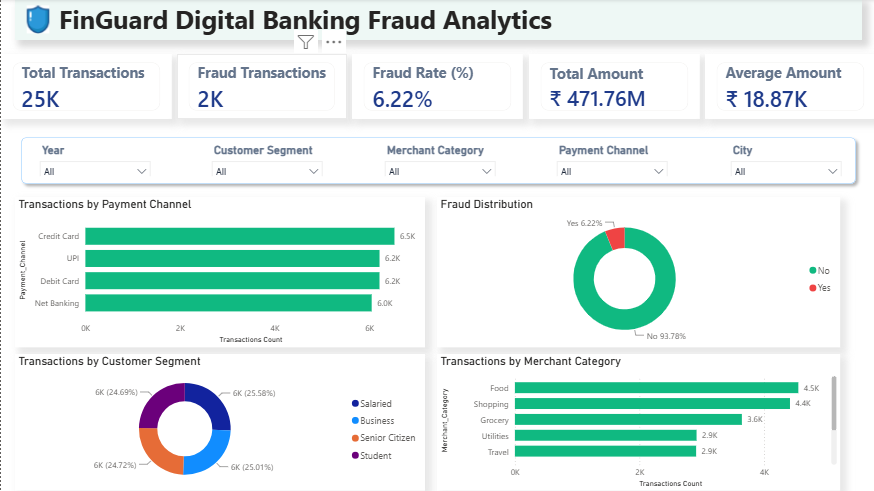

The page's visual inventory and layout, read from the dashboard file:
{"tool":"powerbi","page":{"name":"Executive Dashboard","canvas":[1280,720],"ordinal":0},"visuals":[{"type":"shape","box":[20.5,0,1239.5,60],"z":0},{"type":"actionButton","box":[29.3,4.4,49.8,51.2],"z":1000},{"type":"textbox","box":[84.9,4,1153.2,57.1],"z":2000},{"type":"cardVisual","fields":{"Data":["transactions.Total Transactions"]},"box":[0,80,250.2,95.1],"z":3000},{"type":"cardVisual","fields":{"Data":["transactions.Fraud Transactions"]},"box":[257.8,80,248.8,95.1],"z":4000},{"type":"cardVisual","fields":{"Data":["transactions.Fraud Rate (%)"]},"box":[514.1,80,250.2,95.1],"z":5000},{"type":"cardVisual","fields":{"Data":["transactions.Total Transaction Amount"]},"box":[772,80,250.2,95.1],"z":6000},{"type":"cardVisual","fields":{"Data":["transactions.Average Transaction Amount"]},"box":[1029.8,80,250.2,95.1],"z":7000},{"type":"shape","box":[20.5,193.2,1239.5,86.3],"z":8000},{"type":"slicer","fields":{"Values":["customers.Account_Open_Year"]},"box":[46.4,206.5,182,52.7],"z":9000},{"type":"slicer","fields":{"Values":["customers.Customer_Segment"]},"box":[298.9,206.5,182,52.7],"z":10000},{"type":"slicer","fields":{"Values":["merchants.Merchant_Category"]},"box":[551.5,206.5,182,52.7],"z":11000},{"type":"slicer","fields":{"Values":["transactions.Payment_Channel"]},"box":[804,206.5,182,52.7],"z":12000},{"type":"slicer","fields":{"Values":["customers.City"]},"box":[1058,206.5,182,52.7],"z":13000},{"type":"clusteredBarChart","title":"Transactions by Payment Channel","fields":{"Category":["transactions.Payment_Channel"],"Y":["transactions.Transactions Count"]},"box":[20.5,289.8,600,219.5],"z":14000},{"type":"donutChart","title":"Fraud Distribution","fields":{"Category":["transactions.Is_Fraud"],"Y":["transactions.Transactions Count"]},"box":[638,289.8,590,220],"z":15000},{"type":"donutChart","title":"Transactions by Customer Segment","fields":{"Category":["customers.Customer_Segment"],"Y":["transactions.Transactions Count"]},"box":[20,520,600,200],"z":16000},{"type":"clusteredBarChart","title":"Transactions by Merchant Category","fields":{"Category":["merchants.Merchant_Category"],"Y":["transactions.Transactions Count"]},"box":[638,520,590,200],"z":17000}]}

Visuals, with their boxes in screenshot pixels (x1, y1, x2, y2), scaled from the page's 1280x720 canvas onto the 874x491 screenshot:
shape: x1=14, y1=0, x2=860, y2=41
actionButton: x1=20, y1=3, x2=54, y2=38
textbox: x1=58, y1=3, x2=845, y2=42
cardVisual - transactions.Total Transactions: x1=0, y1=55, x2=171, y2=119
cardVisual - transactions.Fraud Transactions: x1=176, y1=55, x2=346, y2=119
cardVisual - transactions.Fraud Rate (%): x1=351, y1=55, x2=522, y2=119
cardVisual - transactions.Total Transaction Amount: x1=527, y1=55, x2=698, y2=119
cardVisual - transactions.Average Transaction Amount: x1=703, y1=55, x2=873, y2=119
shape: x1=14, y1=132, x2=860, y2=191
slicer - customers.Account_Open_Year: x1=32, y1=141, x2=156, y2=177
slicer - customers.Customer_Segment: x1=204, y1=141, x2=328, y2=177
slicer - merchants.Merchant_Category: x1=377, y1=141, x2=501, y2=177
slicer - transactions.Payment_Channel: x1=549, y1=141, x2=673, y2=177
slicer - customers.City: x1=722, y1=141, x2=847, y2=177
"Transactions by Payment Channel" clusteredBarChart: x1=14, y1=198, x2=424, y2=347
"Fraud Distribution" donutChart: x1=436, y1=198, x2=838, y2=348
"Transactions by Customer Segment" donutChart: x1=14, y1=355, x2=423, y2=490
"Transactions by Merchant Category" clusteredBarChart: x1=436, y1=355, x2=838, y2=490
